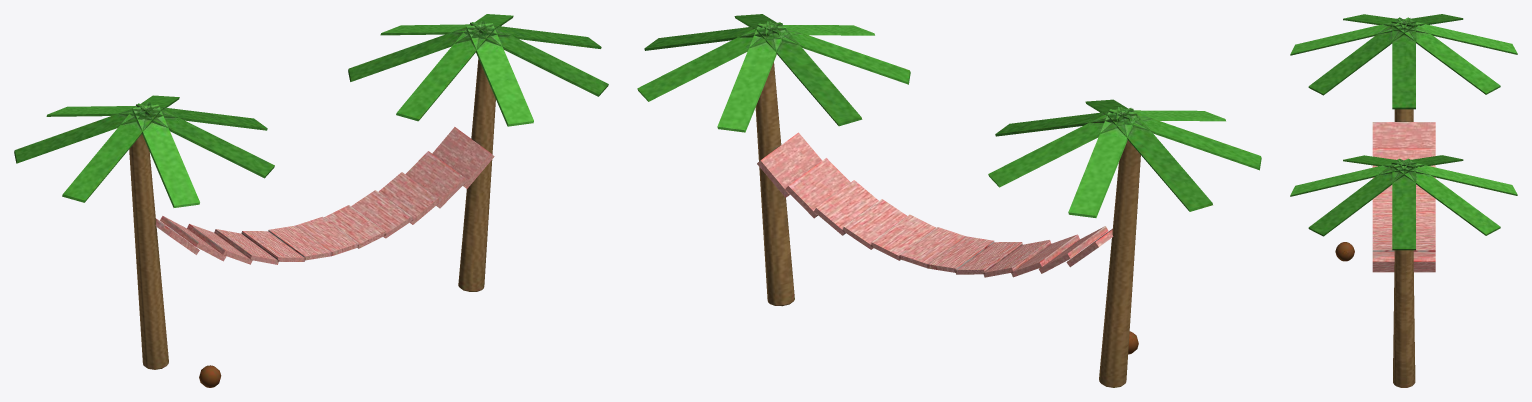
Rendered from hammock.glb.
3 views of the same model, side by side, from view 1: azimuth 30°, elevation 25°; view 2: azimuth 150°, elevation 25°; view 3: azimuth 270°, elevation 25° (orthographic). The views are drawn at different scales.
Parts seen in each view (by area): view 1: hammock, swayX_net; view 2: hammock, swayX_net; view 3: hammock, swayX_net.
Part boxes in pixels (x1,y1,x2,y2): hammock: (14, 14, 608, 387); swayX_net: (155, 127, 494, 264); hammock: (637, 14, 1261, 387); swayX_net: (757, 132, 1113, 277); hammock: (1290, 14, 1517, 387); swayX_net: (1372, 122, 1435, 272).
Bounding box in the file's own units: 2.83 × 1.27 × 1.16.
Materials: 1 (1 with a texture image).
